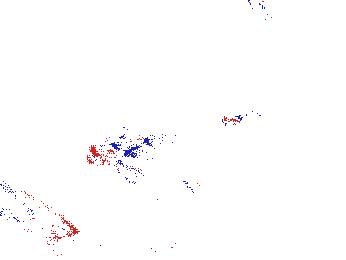red belly glassfish: (83, 132, 152, 167), (216, 109, 269, 130)
redtail glassfish: (110, 154, 216, 208), (2, 181, 89, 244), (47, 229, 185, 260)
